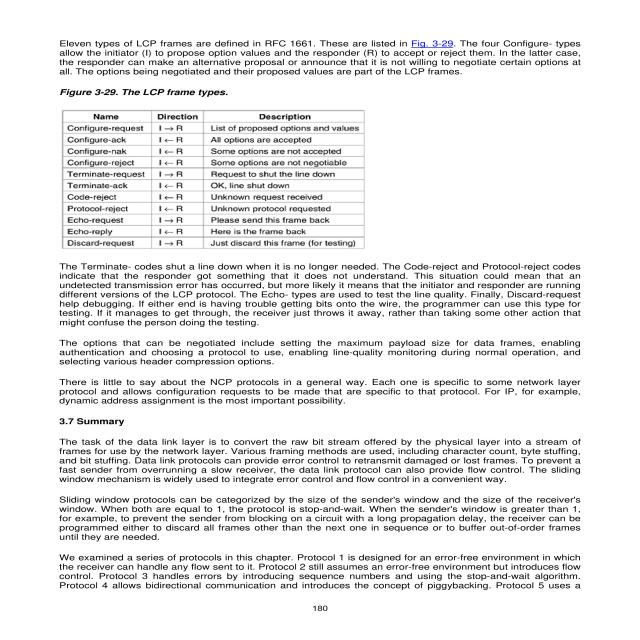diagram: (57, 86, 465, 258)
